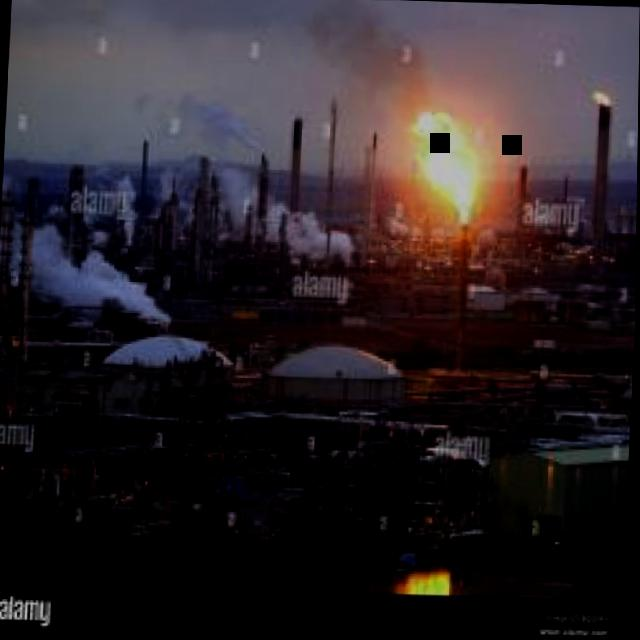fire: (412, 112, 473, 225)
smoke: (307, 0, 446, 127)
